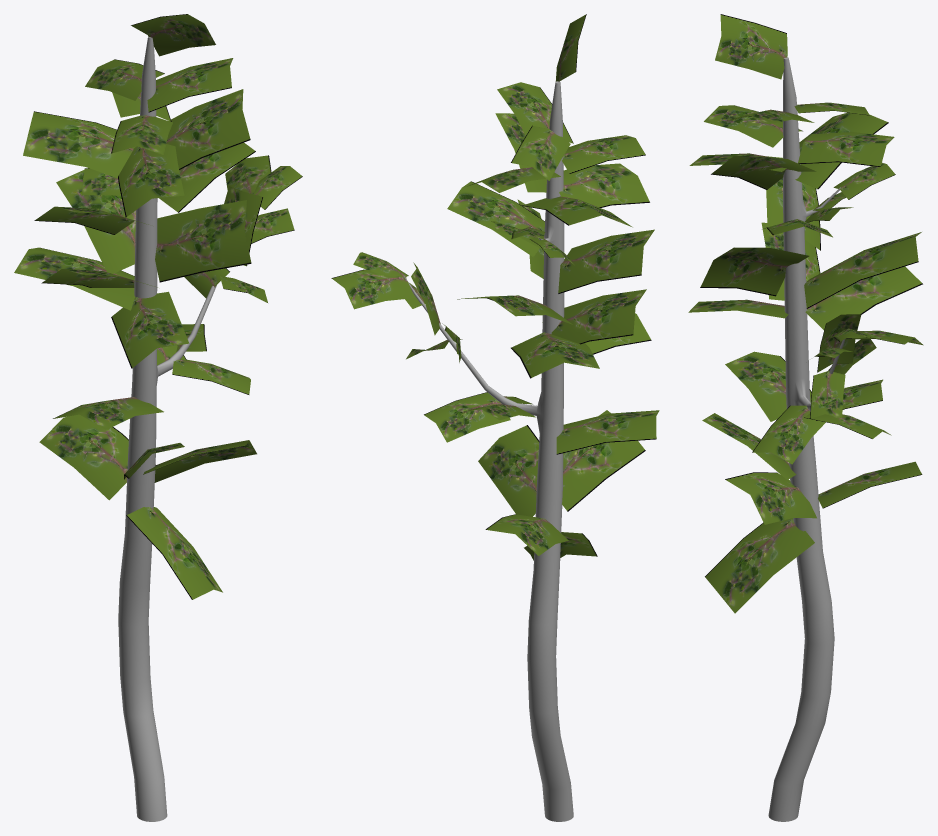
File: SM_Birch2.fbx
3 views of the same model, side by side, from view 1: azimuth 30°, elevation 25°; view 2: azimuth 150°, elevation 25°; view 3: azimuth 270°, elevation 25° (orthographic). The views are drawn at different scales.
Parts seen in each view (by area): view 1: polySurface82; view 2: polySurface82; view 3: polySurface82.
Part boxes in pixels (left/top/right/bottom): polySurface82: left=14, top=14, right=302, bottom=821; polySurface82: left=331, top=14, right=659, bottom=821; polySurface82: left=688, top=14, right=923, bottom=821.
Size of the model in its own units: 434 by 1204 by 320.
2 materials, 1 textured.
